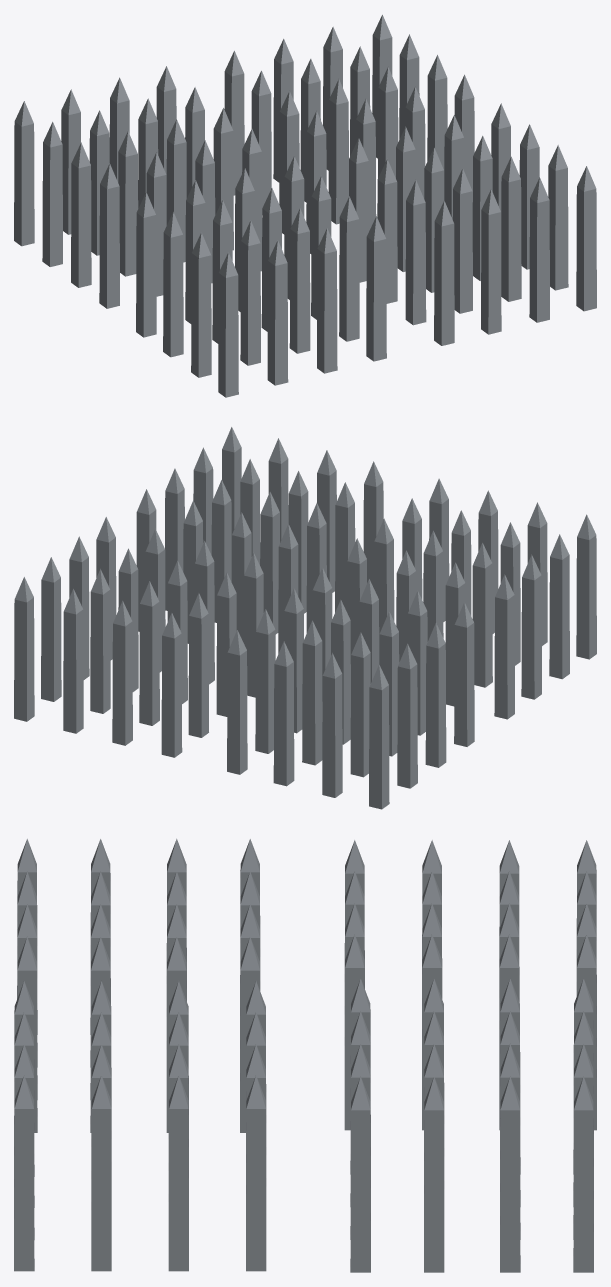
The model's file is SM_Obstacle_01_B_Spike.fbx.
3 renders of one model, top to bottom at view 1: azimuth 30°, elevation 25°; view 2: azimuth 150°, elevation 25°; view 3: azimuth 270°, elevation 25°, orthographic. The views are drawn at different scales.
Visible parts, largest first — view 1: pCube565; view 2: pCube565; view 3: pCube565.
Boxes of the visible parts, left/top/right/bottom form: pCube565: left=14, top=14, right=596, bottom=397; pCube565: left=14, top=427, right=596, bottom=809; pCube565: left=14, top=838, right=596, bottom=1272.
Size of the model in its own units: 174 by 63.43 by 174.
Materials: 1 (1 with a texture image).
